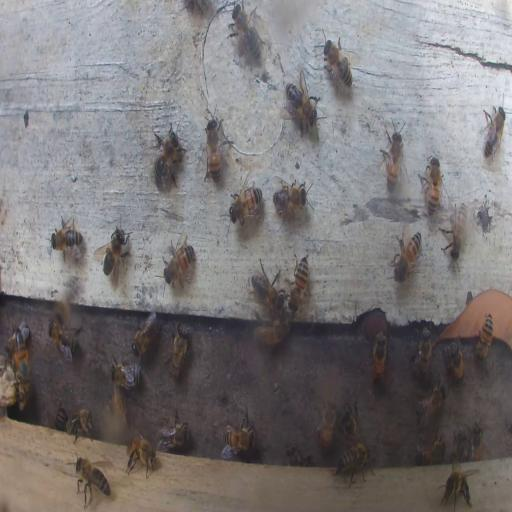bee: (282, 71, 323, 130), (95, 222, 132, 284), (153, 124, 185, 192), (322, 33, 355, 92), (230, 4, 263, 62), (163, 234, 196, 291), (438, 459, 474, 511), (380, 117, 404, 192), (74, 454, 111, 502), (250, 260, 284, 312), (390, 229, 422, 282), (334, 444, 372, 488), (442, 200, 468, 264), (50, 214, 84, 262), (272, 178, 310, 218), (229, 182, 263, 225), (222, 413, 256, 456), (204, 112, 224, 184), (482, 105, 506, 164), (9, 324, 32, 384), (165, 323, 190, 378), (415, 380, 446, 424), (124, 436, 156, 477), (48, 319, 80, 360), (420, 156, 442, 215), (157, 411, 189, 450), (410, 325, 433, 378), (252, 316, 290, 348), (132, 313, 160, 356), (108, 355, 142, 389), (290, 253, 309, 311), (317, 398, 337, 451), (67, 408, 95, 443), (371, 331, 388, 385), (272, 382, 296, 420), (476, 314, 493, 362), (444, 340, 464, 380), (340, 401, 359, 441), (416, 437, 445, 463), (469, 419, 486, 460), (285, 445, 313, 466), (109, 391, 124, 422), (55, 405, 68, 430), (457, 430, 468, 454)
